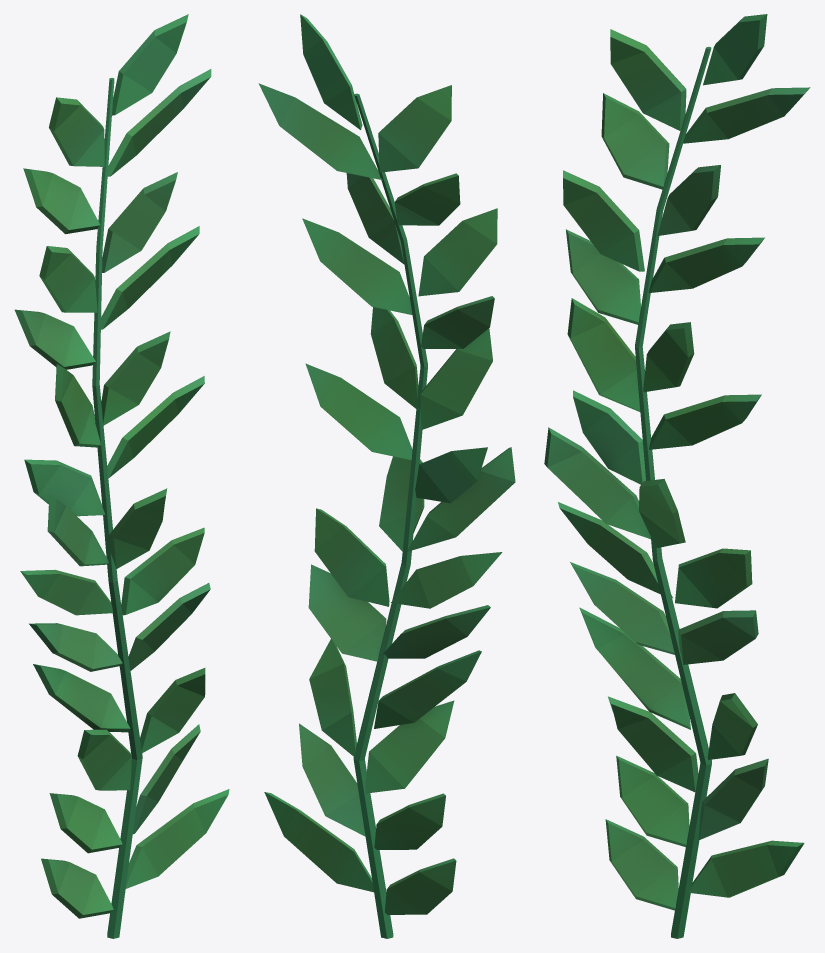
Rendered from Branch.obj.
The picture shows the model from 3 angles, left to right: view 1: azimuth 30°, elevation 25°; view 2: azimuth 150°, elevation 25°; view 3: azimuth 330°, elevation 25°; orthographic projection. The views are drawn at different scales.
Parts seen in each view (by area): view 1: Kelp_mesh; view 2: Kelp_mesh; view 3: Kelp_mesh.
Part boxes in pixels (<box>): Kelp_mesh: <box>14,14,229,938</box>; Kelp_mesh: <box>258,14,515,938</box>; Kelp_mesh: <box>544,14,810,938</box>.
Size of the model in its own units: 4.86 by 18.7 by 2.08.
